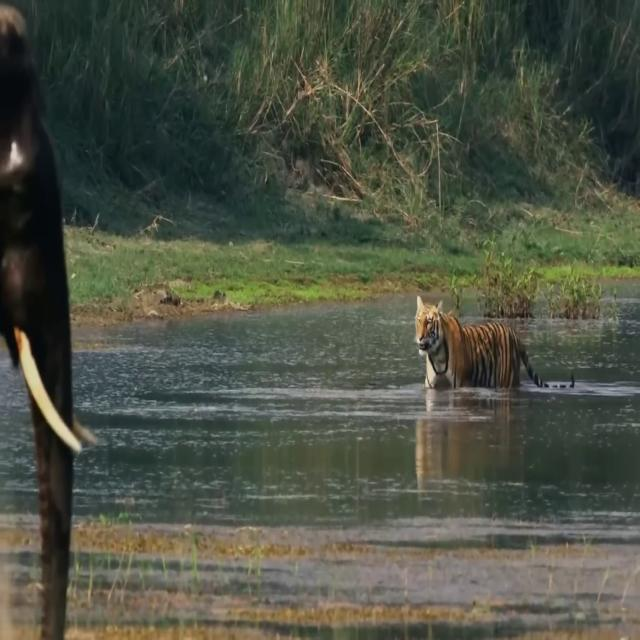tiger: (416, 295, 574, 390)
